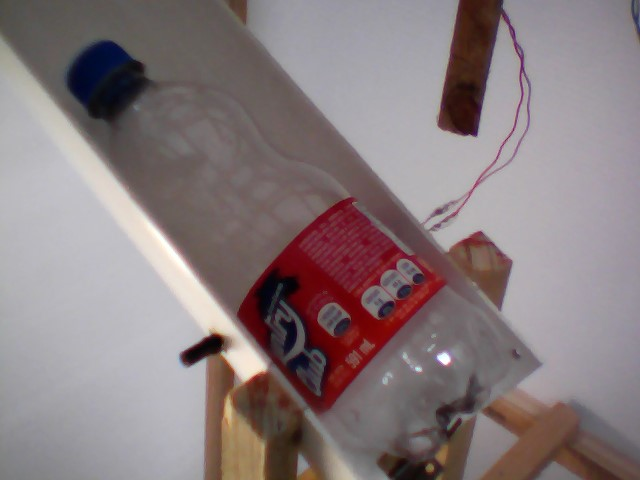plastico: (63, 33, 511, 480)
